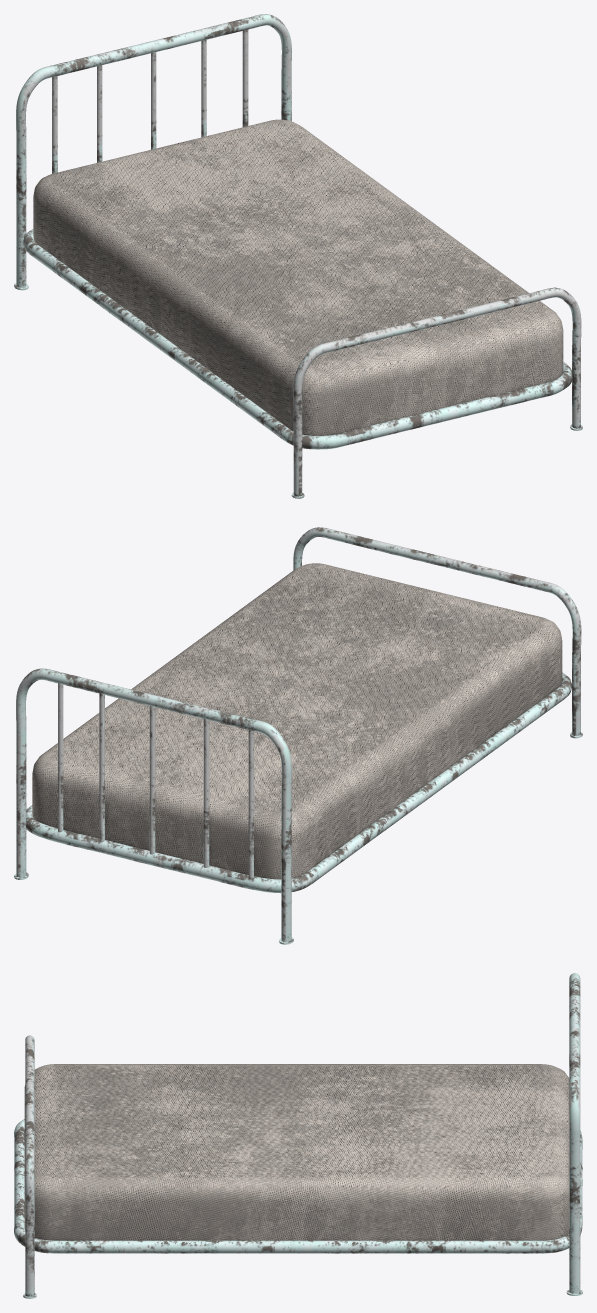
3 views of the same model, one above another, from view 1: azimuth 30°, elevation 25°; view 2: azimuth 150°, elevation 25°; view 3: azimuth 270°, elevation 25° (orthographic). The views are drawn at different scales.
Visible parts, largest first — view 1: Bed (×2); view 2: Bed (×2); view 3: Bed (×2).
Boxes of the visible parts, x1=… form: Bed (×2): x1=14, y1=14, x2=582, y2=498; Bed (×2): x1=14, y1=527, x2=582, y2=944; Bed (×2): x1=14, y1=973, x2=582, y2=1298.
Bounding box in the file's own units: 1.13 × 0.7959 × 2.
2 materials, 2 textured.
